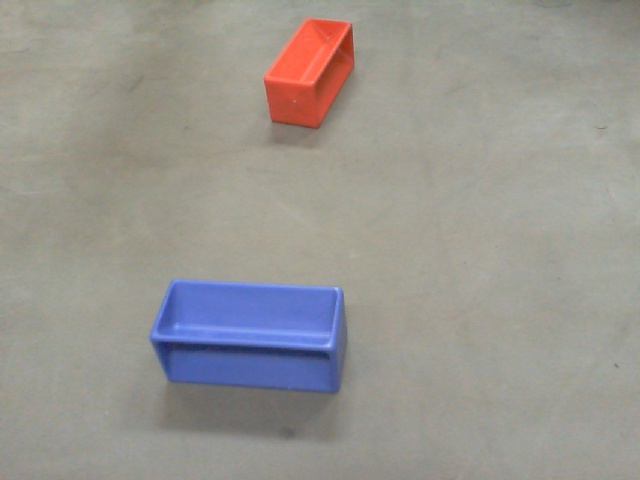BlueSample: (146, 273, 355, 396)
RedSample: (260, 15, 357, 135)
